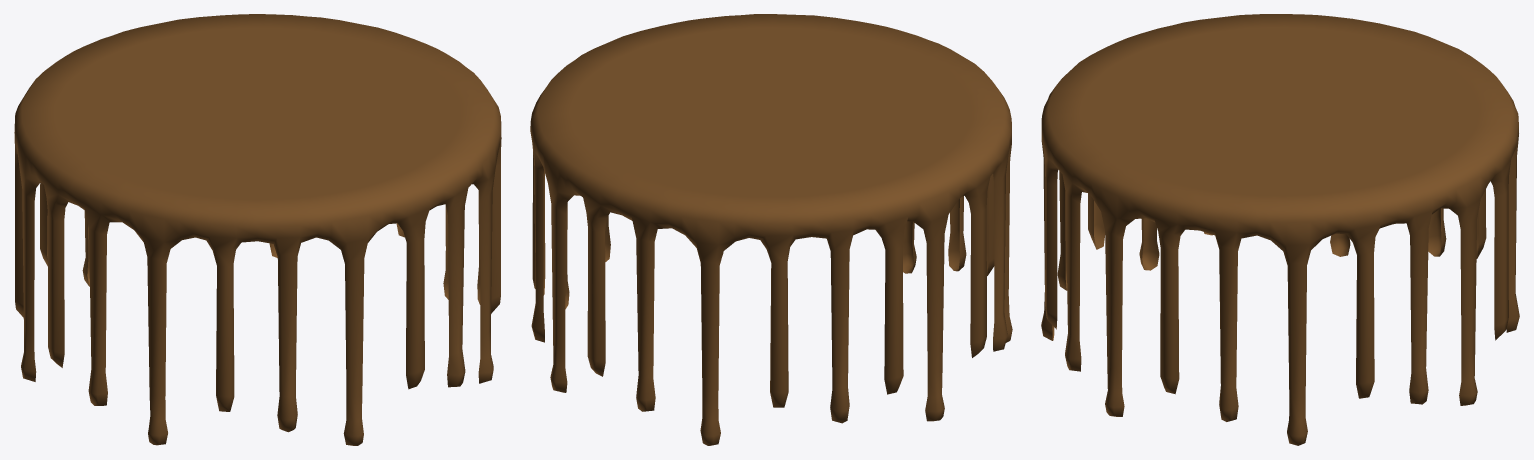
Rendered from Cake_Sml_itemsTop_icing-LongDrops.FBX.
3 renders of one model, left to right at view 1: azimuth 30°, elevation 25°; view 2: azimuth 150°, elevation 25°; view 3: azimuth 270°, elevation 25°, orthographic.
Visible parts, largest first — view 1: Cake_Sml_itemsTop_icing-LongDrops; view 2: Cake_Sml_itemsTop_icing-LongDrops; view 3: Cake_Sml_itemsTop_icing-LongDrops.
Boxes of the visible parts, x1,y1,x2,y2 form: Cake_Sml_itemsTop_icing-LongDrops: [14, 14, 501, 445]; Cake_Sml_itemsTop_icing-LongDrops: [530, 14, 1012, 445]; Cake_Sml_itemsTop_icing-LongDrops: [1041, 14, 1519, 445].
Bounding box in the file's own units: 4940 × 2712 × 4946.
